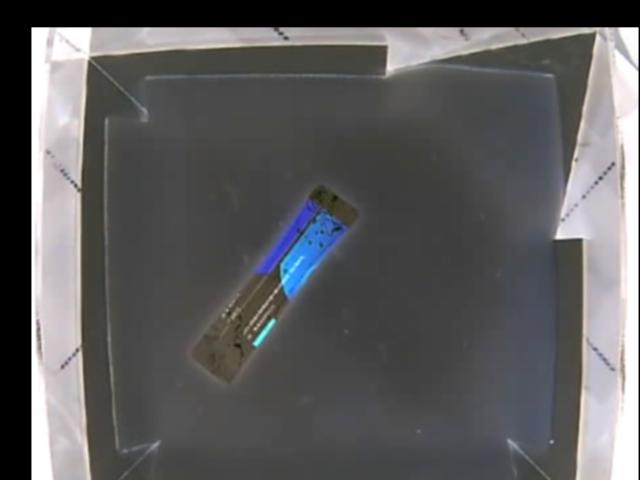Medicine: (187, 181, 360, 388)
